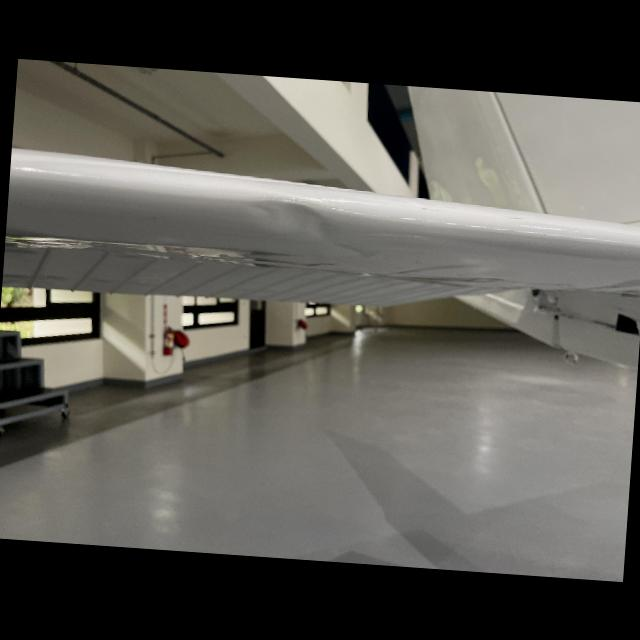dent: (232, 192, 358, 242)
